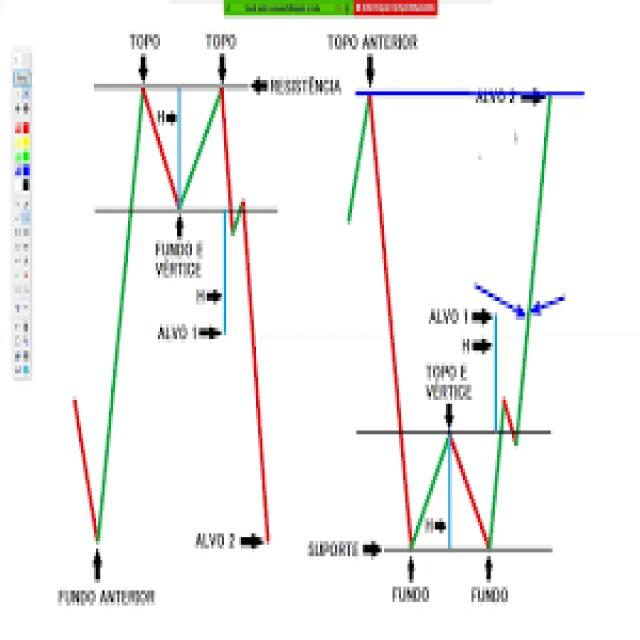fundo_duplo: (343, 235, 568, 562)
topo_duplo: (77, 24, 297, 440)
